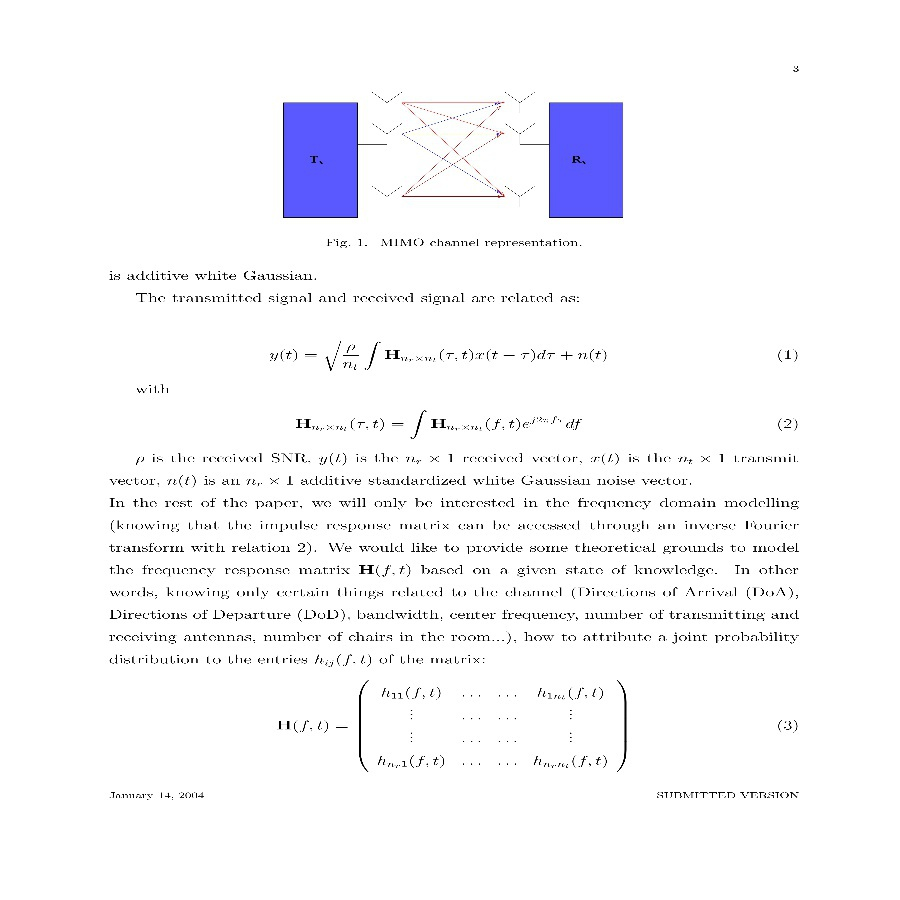eq: (276, 676, 631, 778), (264, 337, 611, 373), (290, 407, 586, 442)
